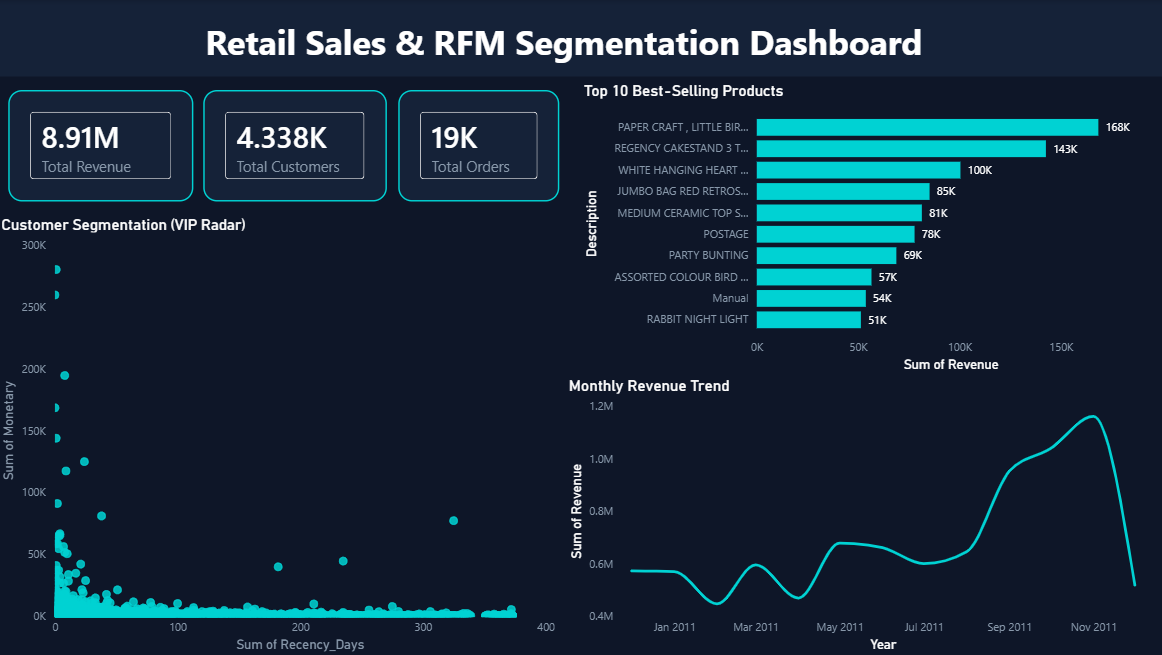

This screenshot's page, from the dashboard's own definition file:
{"tool":"powerbi","page":{"name":"Page 1","canvas":[1280,720],"ordinal":0},"visuals":[{"type":"textbox","box":[0,0,1280.3,83.7],"z":1},{"type":"textbox","box":[0,15.1,1244.6,68.6],"z":2},{"type":"cardVisual","fields":{"Data":["Sum(portfolio_project rfm_data.Monetary)"]},"box":[12.3,98.8,203.1,122.1],"z":3},{"type":"cardVisual","fields":{"Data":["Sum(portfolio_project rfm_data.Frequency)"]},"box":[440.5,98.8,177,122.1],"z":4},{"type":"cardVisual","fields":{"Data":["Count(portfolio_project rfm_data.Customer ID)"]},"box":[226.4,98.8,201.7,122.1],"z":5},{"type":"scatterChart","title":"Customer Segmentation (VIP Radar)","fields":{"Category":["portfolio_project rfm_data.Customer ID"],"X":["portfolio_project rfm_data.Recency_Days"],"Y":["portfolio_project rfm_data.Monetary"]},"box":[0,236,617.5,484.4],"z":6},{"type":"lineChart","title":"Monthly Revenue Trend","fields":{"Y":["Sum(clean_retail.Revenue)"],"Category":["clean_retail.Real_InvoiceDate.Variation.Date Hierarchy.Year","clean_retail.Real_InvoiceDate.Variation.Date Hierarchy.Month"]},"box":[623,413,657.3,307.4],"z":7},{"type":"clusteredBarChart","title":"Top 10 Best-Selling Products","fields":{"Category":["clean_retail.Description"],"Y":["Sum(clean_retail.Revenue)"]},"box":[639.5,89.2,640.8,323.8],"z":8}]}

Visuals, with their boxes in screenshot pixels (x1, y1, x2, y2), scaled from the page's 1280x720 canvas onto the 1162x655 screenshot:
textbox: (0, 0, 1161, 76)
textbox: (0, 14, 1130, 76)
cardVisual - Sum(portfolio_project rfm_data.Monetary): (11, 90, 196, 201)
cardVisual - Sum(portfolio_project rfm_data.Frequency): (400, 90, 561, 201)
cardVisual - Count(portfolio_project rfm_data.Customer ID): (206, 90, 389, 201)
"Customer Segmentation (VIP Radar)" scatterChart: (0, 215, 561, 654)
"Monthly Revenue Trend" lineChart: (566, 376, 1161, 654)
"Top 10 Best-Selling Products" clusteredBarChart: (581, 81, 1161, 376)
